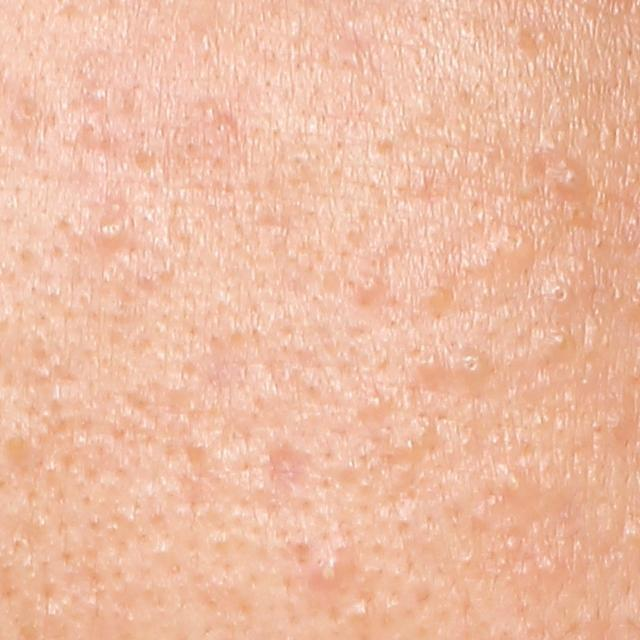comedo: (496, 219, 537, 269), (562, 158, 590, 198), (543, 278, 571, 312), (458, 351, 488, 382), (544, 332, 578, 359), (533, 553, 563, 583), (94, 216, 125, 245), (82, 81, 112, 110), (353, 271, 382, 300), (348, 598, 374, 625), (199, 100, 223, 129), (532, 23, 555, 46), (365, 391, 389, 413)
pustule: (303, 546, 359, 594)
